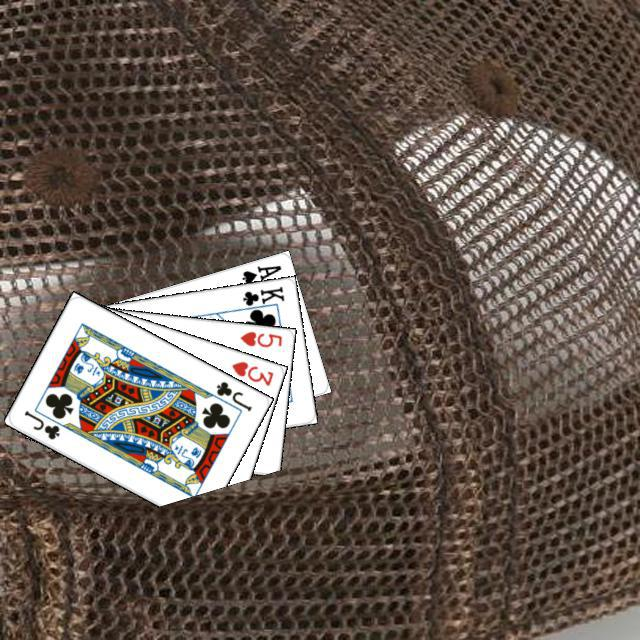3h: (227, 356, 275, 388)
5h: (235, 326, 284, 349)
As: (237, 260, 283, 286)
Jc: (211, 376, 254, 413), (19, 406, 62, 441)
Kc: (235, 281, 286, 312)
